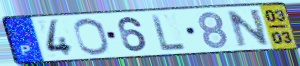4: (44, 17, 76, 59)
6: (117, 15, 149, 53)
8: (197, 10, 230, 50)
L: (149, 13, 189, 53)
N: (225, 7, 272, 48)
O: (72, 17, 112, 56)
